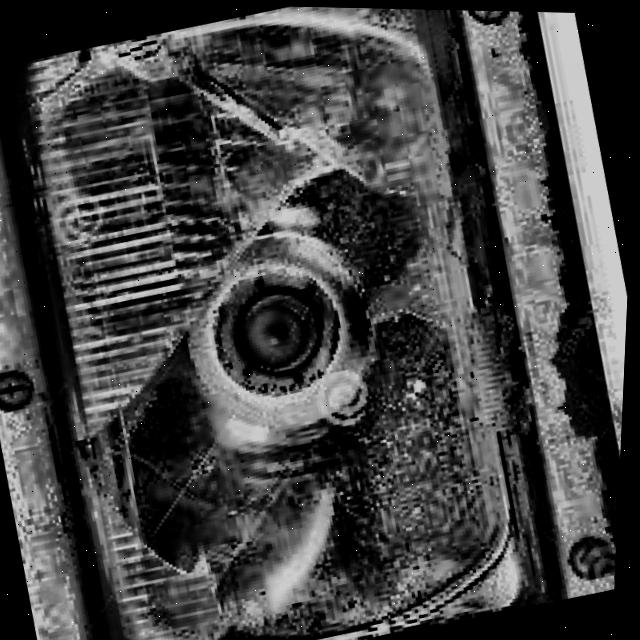head_lamp: (0, 0, 553, 640)
